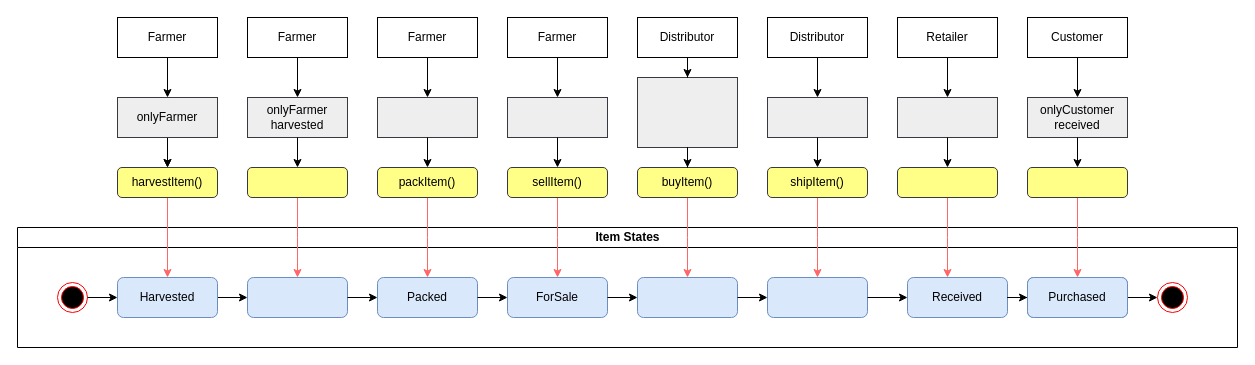
Some shapes in this 1255 by 365 pixel diagram are drawn without their labels. The centre of each missing label's shape, as x and y in pixels:
"onlyDistributor forSale checkValue paidEnough" belongs at (687,112).
"onlyDistributor sold" belongs at (817,117).
"onlyFarmer packed" belongs at (557,117).
"onlyFarmer processed" belongs at (427,117).
"onlyRetailer shipped" belongs at (947,117).
"Processed" belongs at (297,297).
"processItem()" belongs at (297,182).
"purchaseItem()" belongs at (1077,182).
"receiveItem()" belongs at (947,182).
"Shipped" belongs at (817,297).
"Sold" belongs at (687,297).
